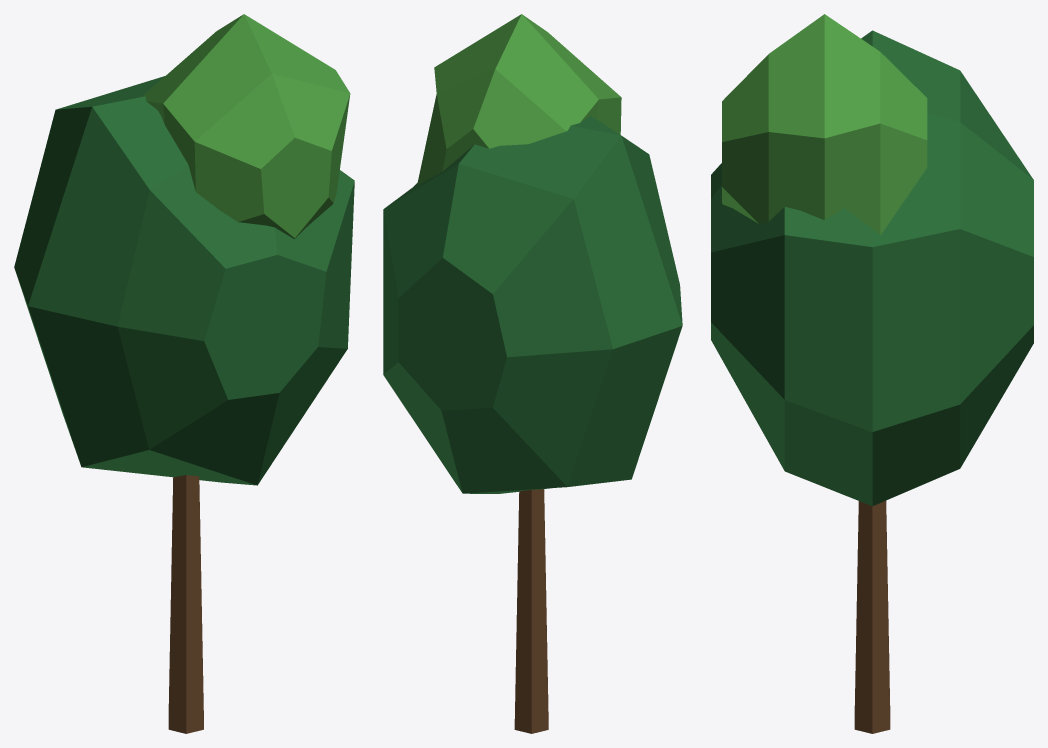
Rendered from nat_tree_tall.glb.
The picture shows the model from 3 angles, left to right: view 1: azimuth 30°, elevation 25°; view 2: azimuth 150°, elevation 25°; view 3: azimuth 270°, elevation 25°; orthographic projection. The views are drawn at different scales.
Parts seen in each view (by area): view 1: nat_tree_tall__mesh; view 2: nat_tree_tall__mesh; view 3: nat_tree_tall__mesh.
Boxes of the visible parts, x1=… form: nat_tree_tall__mesh: x1=14, y1=14, x2=354, y2=733; nat_tree_tall__mesh: x1=383, y1=14, x2=682, y2=733; nat_tree_tall__mesh: x1=711, y1=14, x2=1033, y2=733.
Bounding box in the file's own units: 4.45 × 10.07 × 4.05.
